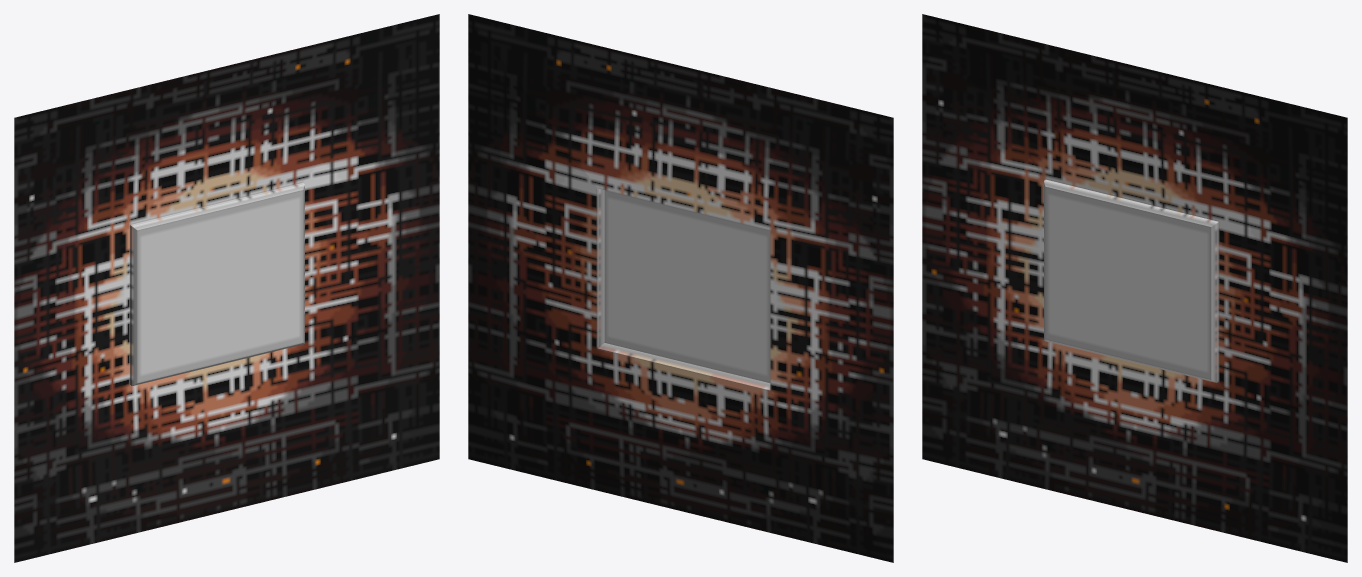
The model's file is reac4_2.fbx.
3 views of the same model, side by side, from view 1: azimuth 30°, elevation 25°; view 2: azimuth 150°, elevation 25°; view 3: azimuth 330°, elevation 25° (orthographic).
Visible parts, largest first — view 1: reac4_2_mesh; view 2: reac4_2_mesh; view 3: reac4_2_mesh.
Boxes of the visible parts, x1,y1,x2,y2 form: reac4_2_mesh: (14, 14, 439, 562); reac4_2_mesh: (468, 14, 893, 562); reac4_2_mesh: (922, 14, 1347, 562).
Bounding box in the file's own units: 256 × 256 × 4.
